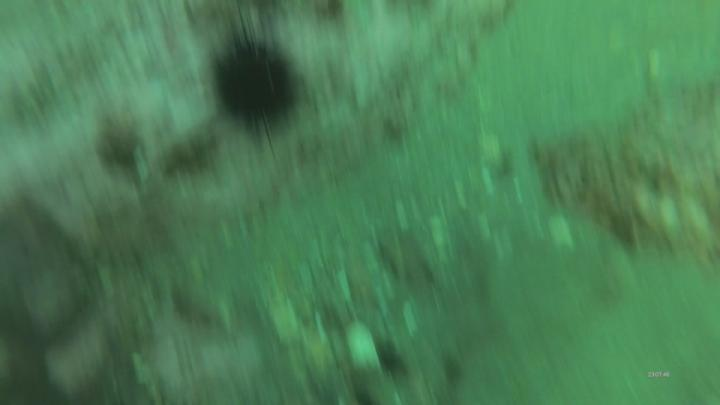echinus: (213, 38, 300, 143)
